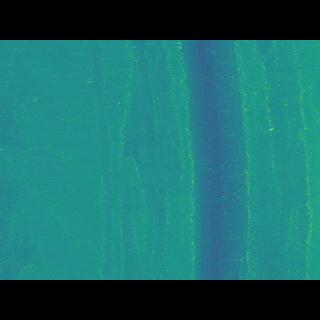Loch: (180, 70, 250, 251), (260, 69, 312, 251)
